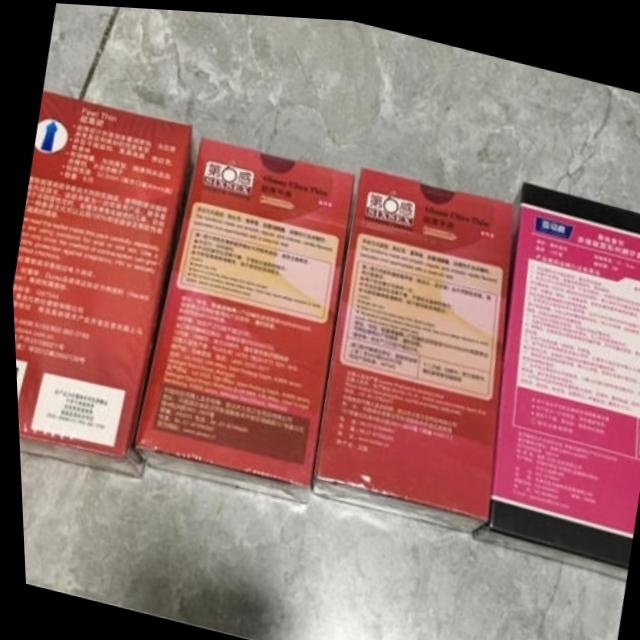box: (133, 133, 351, 500), (307, 162, 511, 527), (11, 91, 192, 475), (470, 178, 640, 572)
